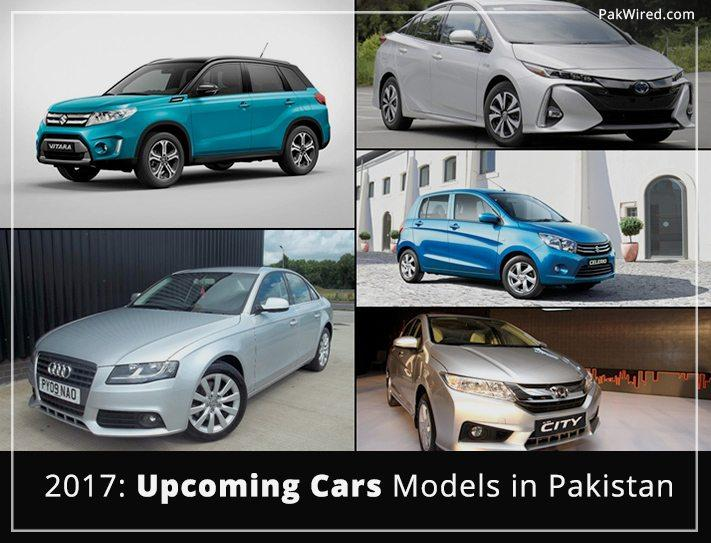windshield: (123, 261, 263, 323), (476, 3, 647, 51), (420, 316, 554, 353), (105, 59, 210, 94)
